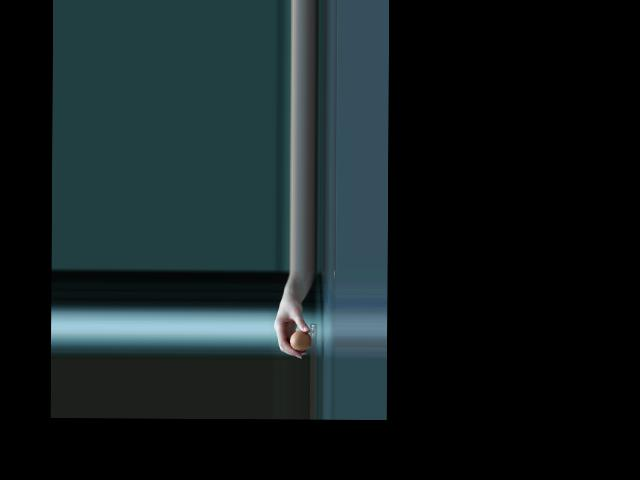egg: (289, 330, 311, 351)
